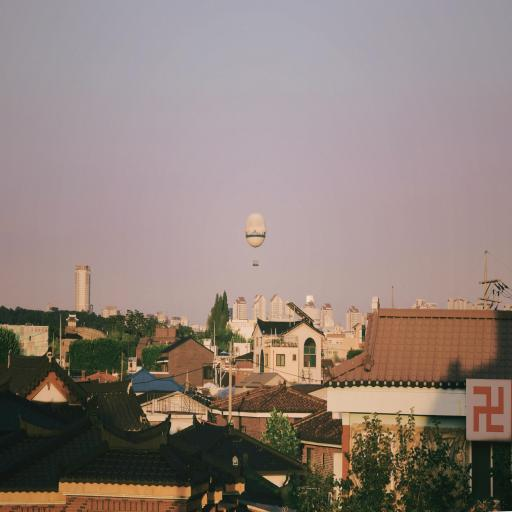hot air ballon: (245, 212, 266, 267)
